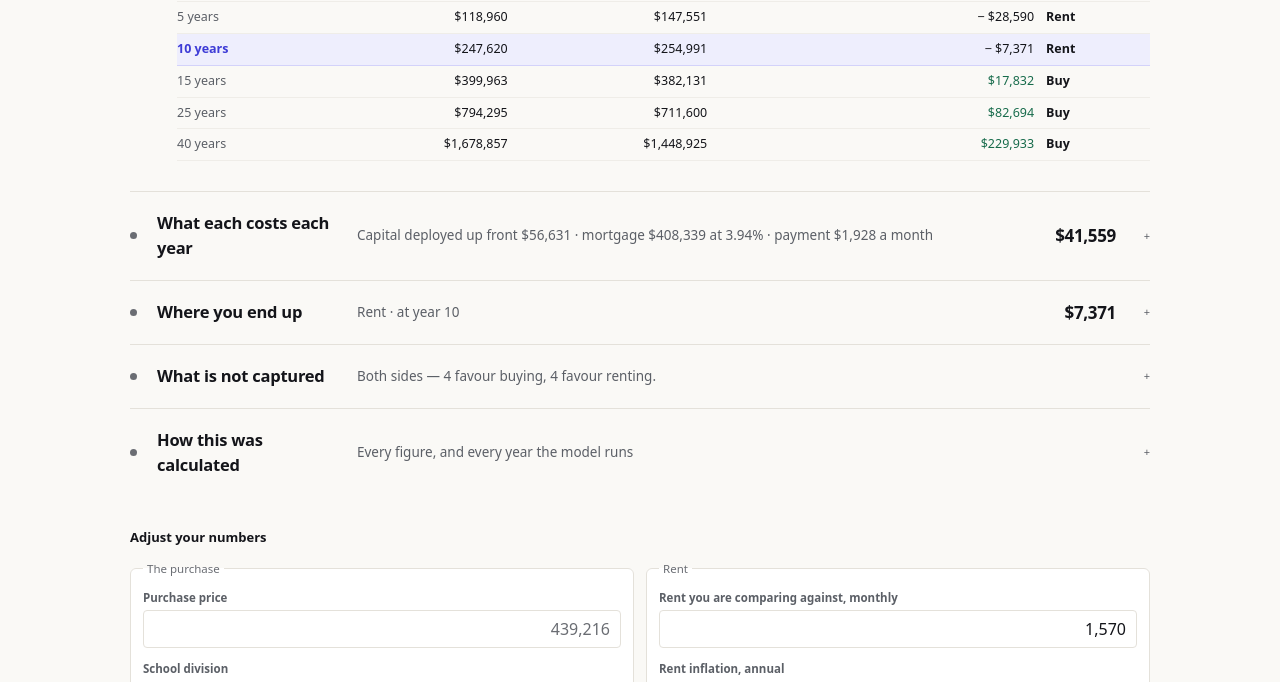
Test: Rent vs buy — breaking the mortgage early › names the prepayment penalty, without pricing it
(page scrolled)
Click the button "What is not captured" at (640, 377), box [130,345,1150,408]
(page scrolled)
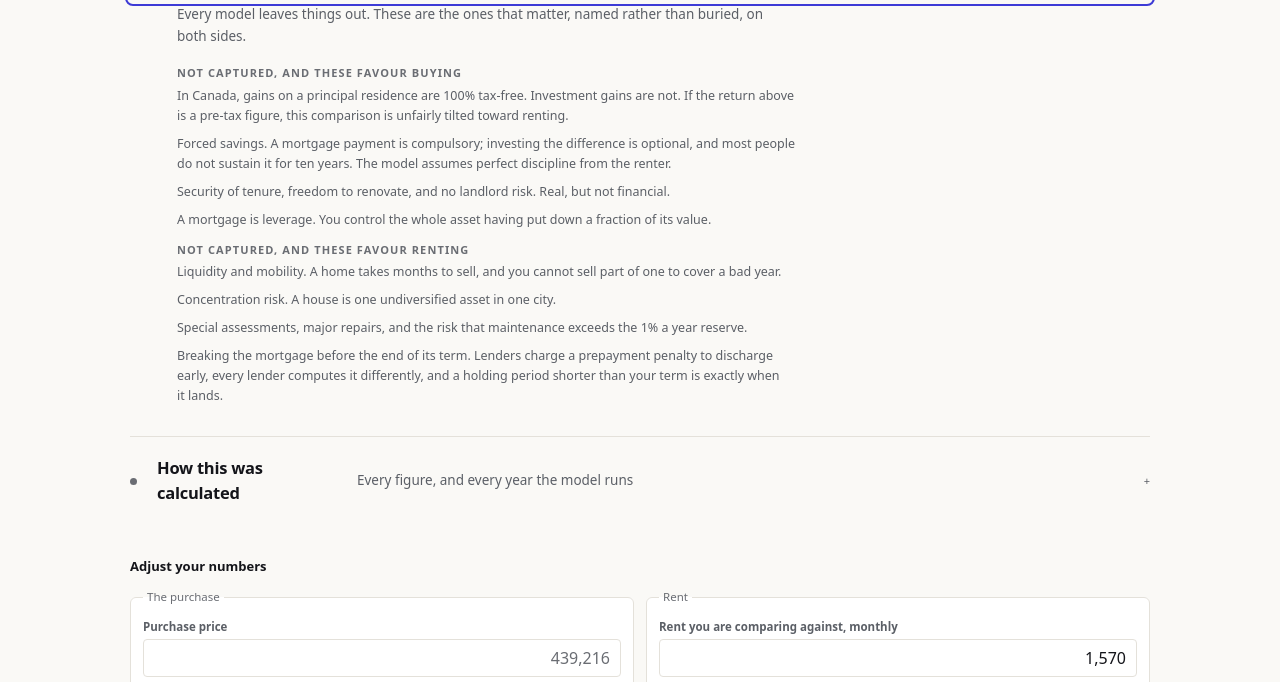
Check: the list item "prepayment penalty" is shown, box [177,348,780,404]
